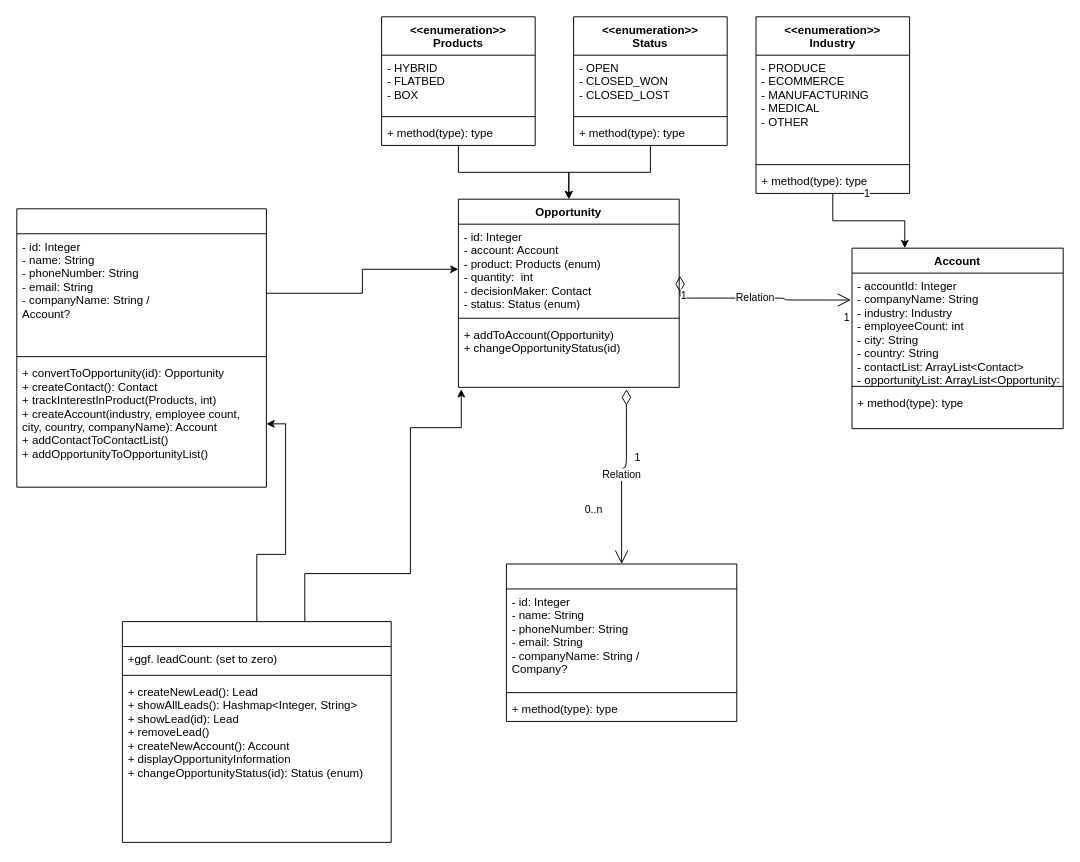
The diagram is 1080 pixels wide and 862 high, and some of its shapes have lost their labels. The box of each missing label's shape, as (x1, y1, x2, y2) in pixels:
Contact: (505, 563, 737, 721)
Lead: (16, 208, 266, 487)
Menu: (121, 621, 391, 842)
